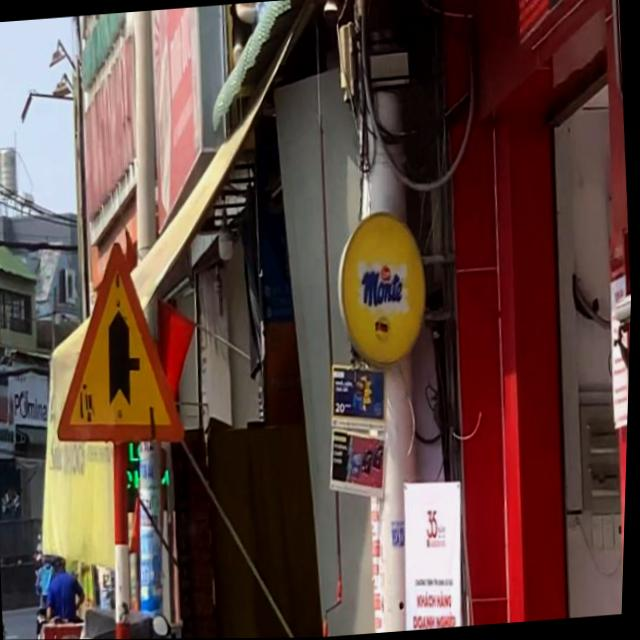Giao nhau voi duong khong uu tien ben phai: (43, 233, 195, 455)
